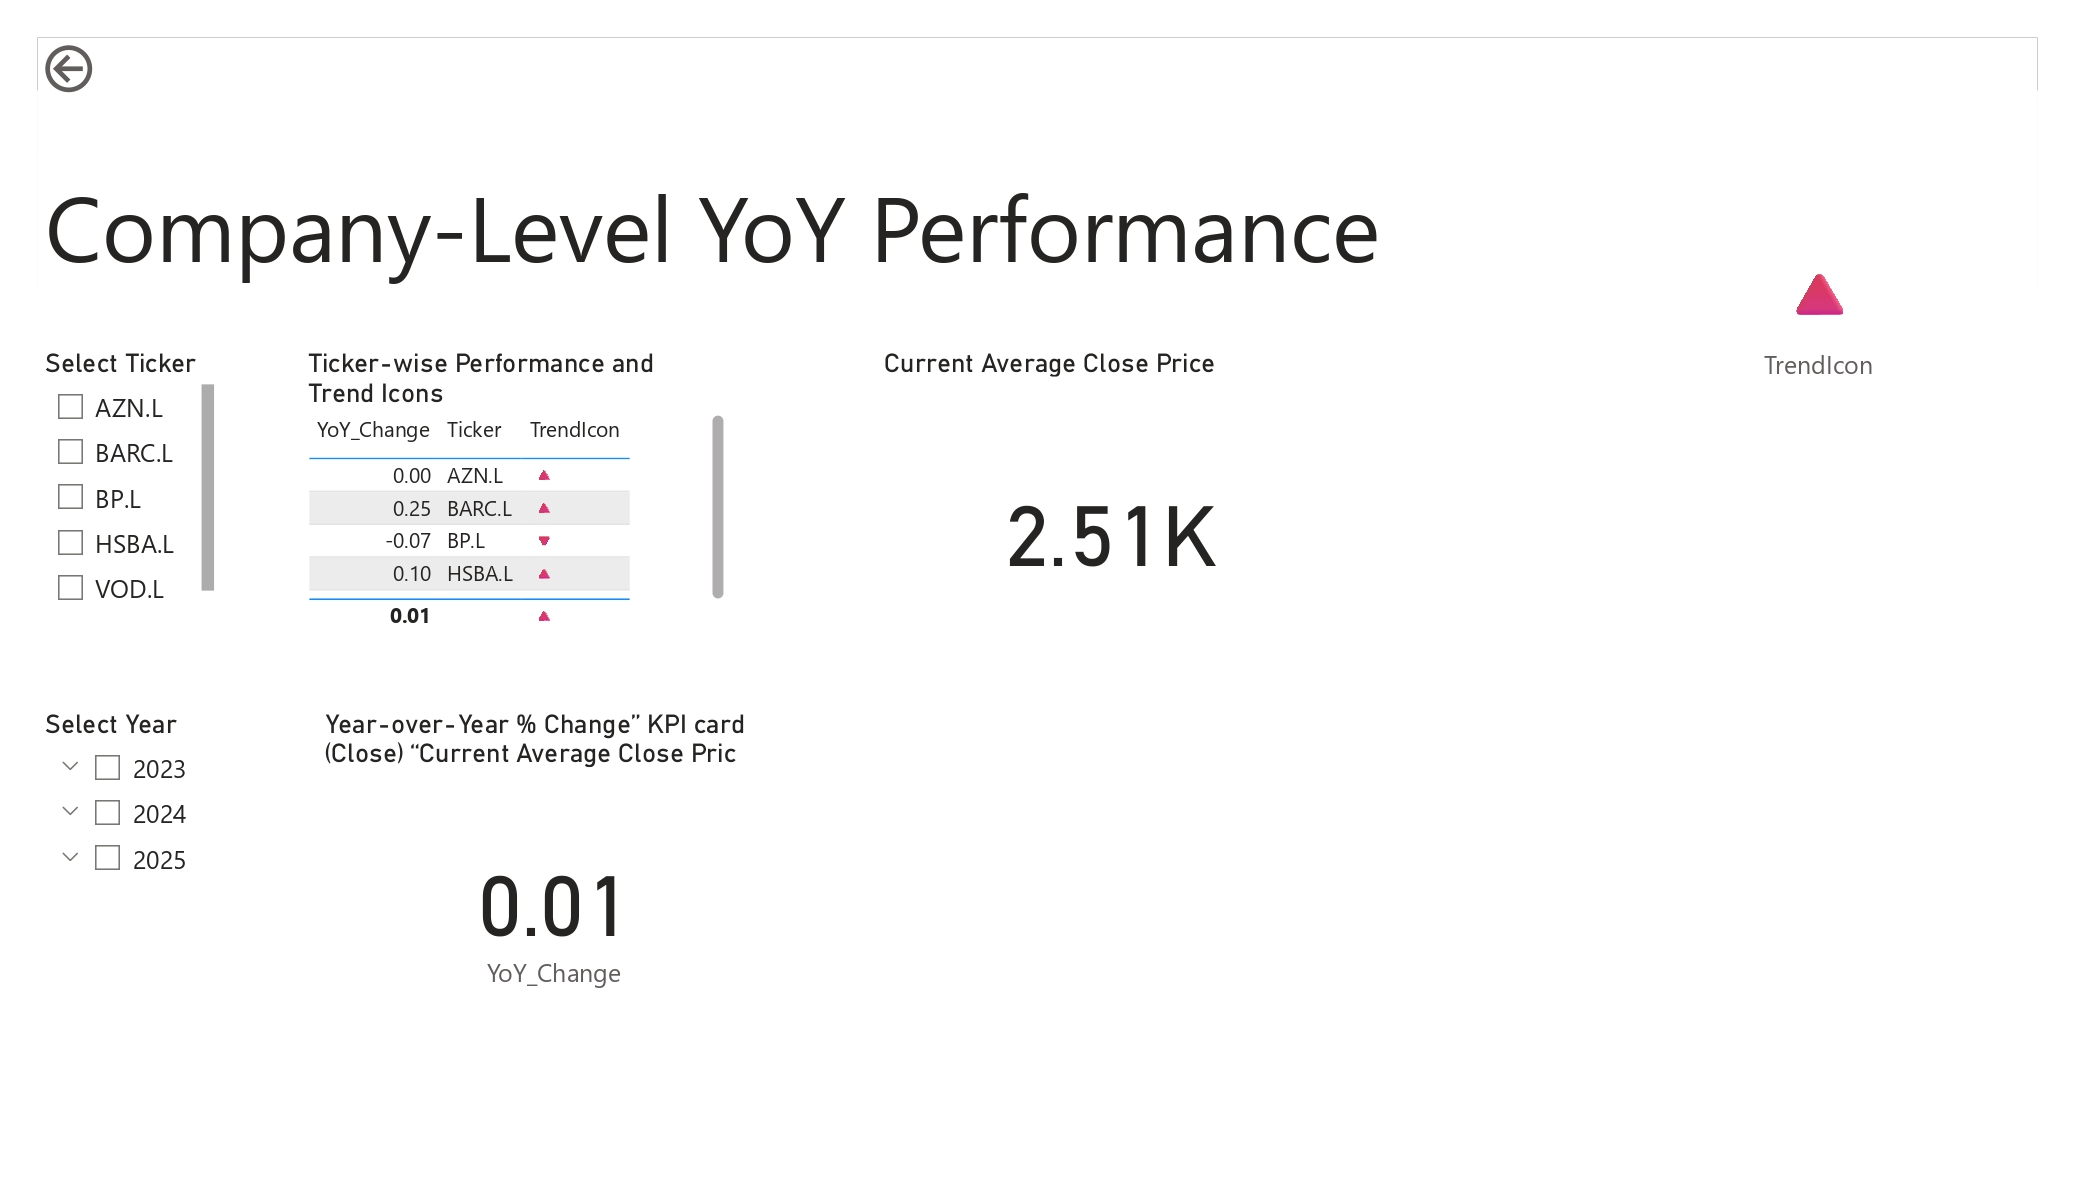

This screenshot's page, from the dashboard's own definition file:
{"tool":"powerbi","page":{"name":"Page 2","canvas":[1280,720],"ordinal":1},"visuals":[{"type":"card","title":"Current Average Close Price","fields":{"Values":["Avg(ftse100_stocks.Close)"]},"box":[537,198,300,210],"z":0},{"type":"slicer","title":"Select Ticker","fields":{"Values":["ftse100_stocks.Ticker"]},"box":[0,198,118,173],"z":1000},{"type":"card","title":"Year-over-Year % Change” KPI card (Close)\t“Current Average Close Pric","fields":{"Values":["ftse100_stocks.YoY_Change"]},"box":[179,429,303,224],"z":2000},{"type":"card","fields":{"Values":["ftse100_stocks.TrendIcon"]},"box":[1000.3,39.8,279.9,260.7],"z":3000},{"type":"tableEx","title":"Ticker-wise Performance and Trend Icons","fields":{"Values":["ftse100_stocks.YoY_Change","ftse100_stocks.Ticker","ftse100_stocks.TrendIcon"]},"box":[168,198,277,187],"z":4000},{"type":"actionButton","box":[0,0,100,40],"z":5000},{"type":"slicer","title":"Select Year","fields":{"Values":["ftse100_stocks.Date.Variation.Date Hierarchy.Year","ftse100_stocks.Date.Variation.Date Hierarchy.Quarter","ftse100_stocks.Date.Variation.Date Hierarchy.Month","ftse100_stocks.Date.Variation.Date Hierarchy.Day"]},"box":[0,429,126,122],"z":6000},{"type":"textbox","box":[0,76,912,94],"z":7000}]}

Visuals, with their boxes in screenshot pixels (x1, y1, x2, y2):
"Current Average Close Price" card: {"x1": 877, "y1": 347, "x2": 1345, "y2": 675}
"Select Ticker" slicer: {"x1": 38, "y1": 347, "x2": 222, "y2": 617}
"Year-over-Year % Change” KPI card (Close)	“Current Average Close Pric" card: {"x1": 317, "y1": 708, "x2": 791, "y2": 1058}
card - ftse100_stocks.TrendIcon: {"x1": 1600, "y1": 100, "x2": 2038, "y2": 507}
"Ticker-wise Performance and Trend Icons" tableEx: {"x1": 300, "y1": 347, "x2": 733, "y2": 639}
actionButton: {"x1": 38, "y1": 38, "x2": 194, "y2": 100}
"Select Year" slicer: {"x1": 38, "y1": 708, "x2": 234, "y2": 898}
textbox: {"x1": 38, "y1": 156, "x2": 1462, "y2": 303}
